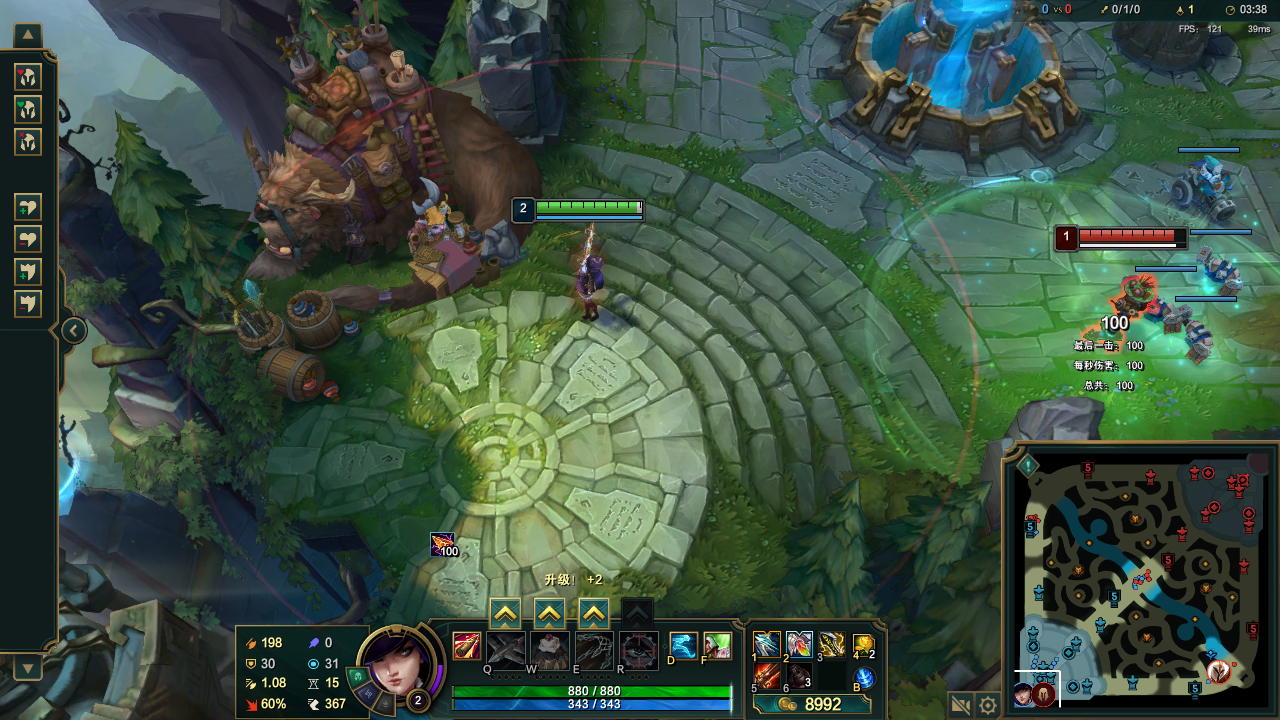DFYX: (1081, 232, 1188, 242)
